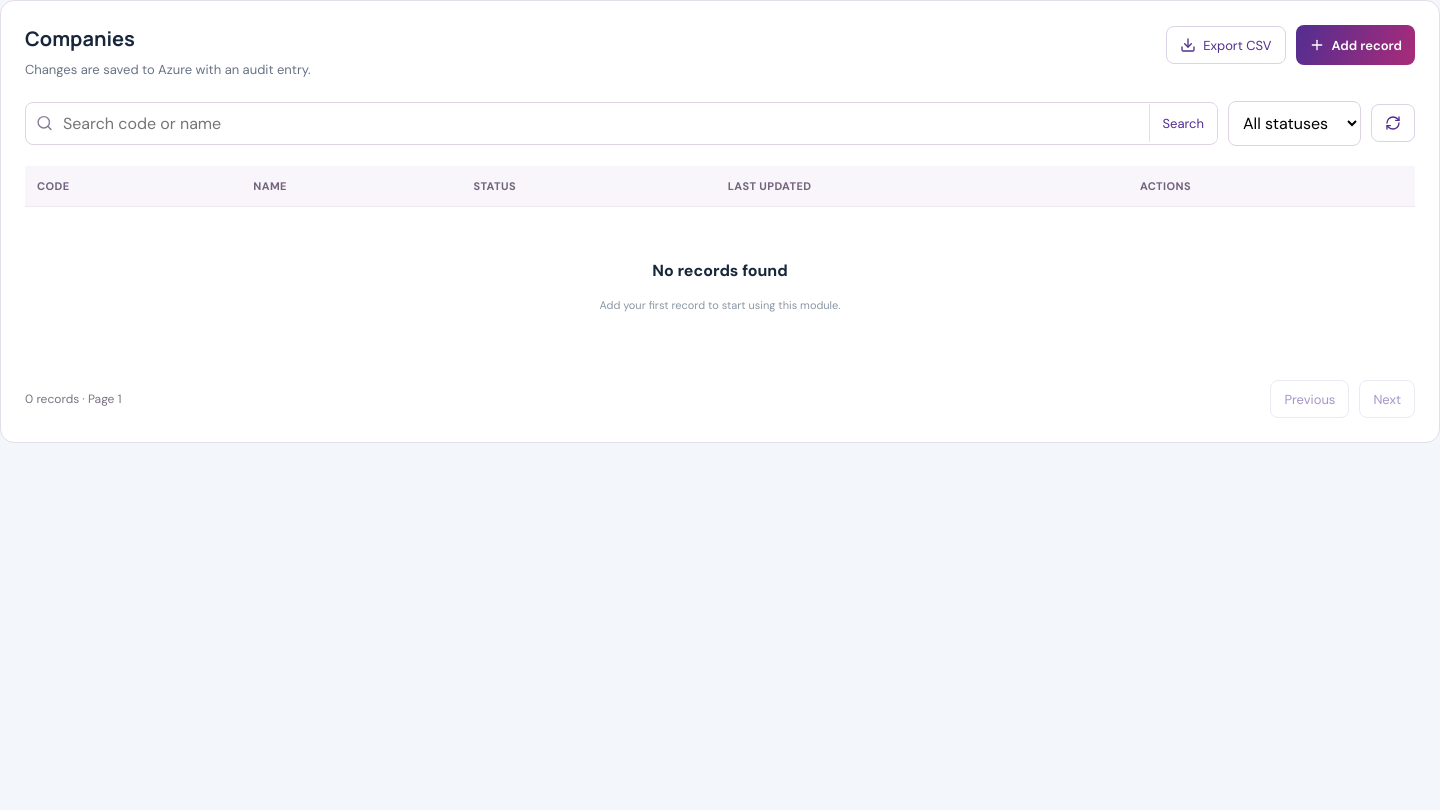
Test: database-backed record forms › sends the grant and saved values, then reloads the database list
This screenshot has width=1440, height=810.
Expected: the heading "No records found" is shown, left=652, top=260, right=788, bottom=281
Click the button "Add record" at (1355, 45), box left=1296, top=25, right=1415, bottom=65
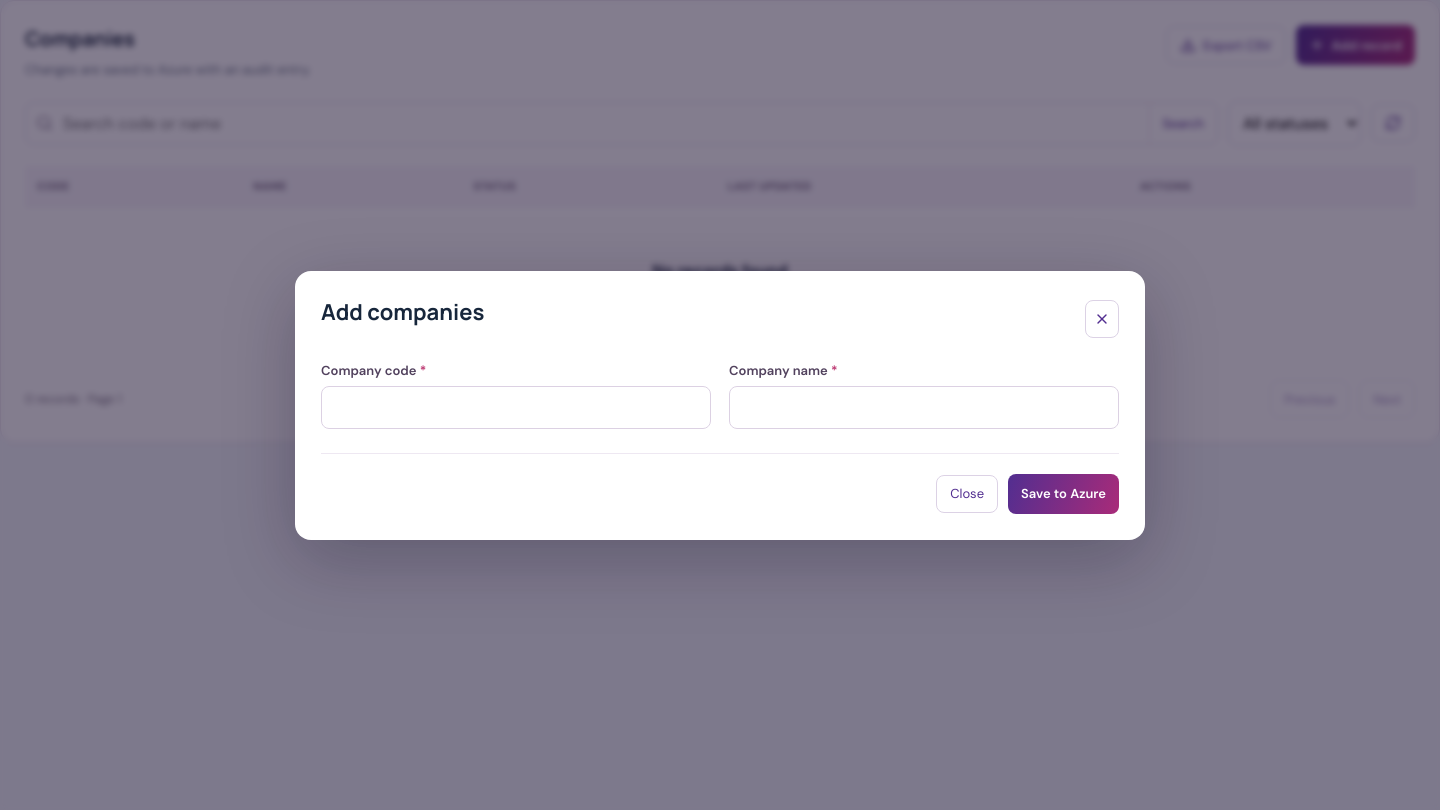
Type "C001" into the field labelled "Company code *" at (516, 407), box left=321, top=386, right=711, bottom=428
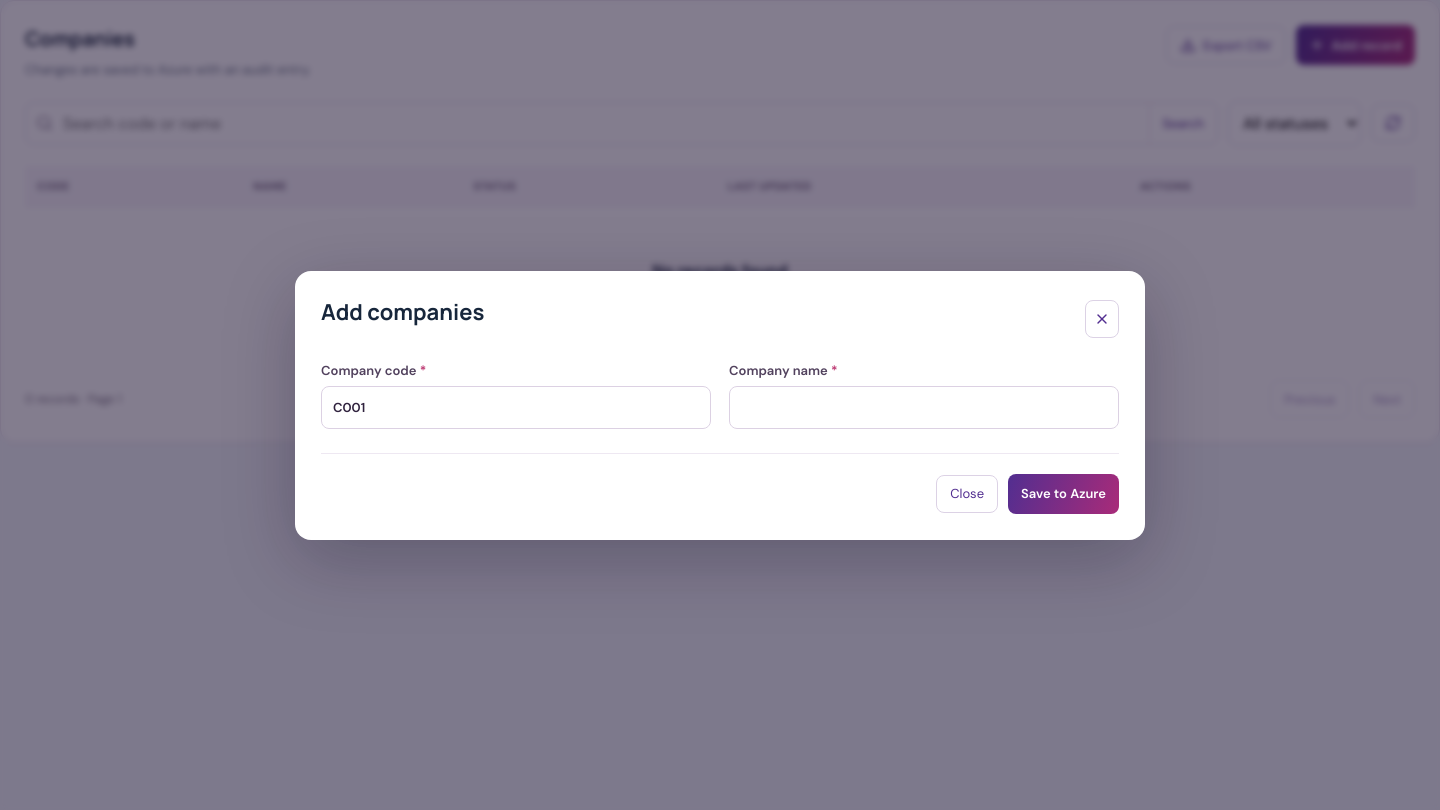
Type "Example company" into the field labelled "Company name *" at (924, 407), box left=729, top=386, right=1119, bottom=428
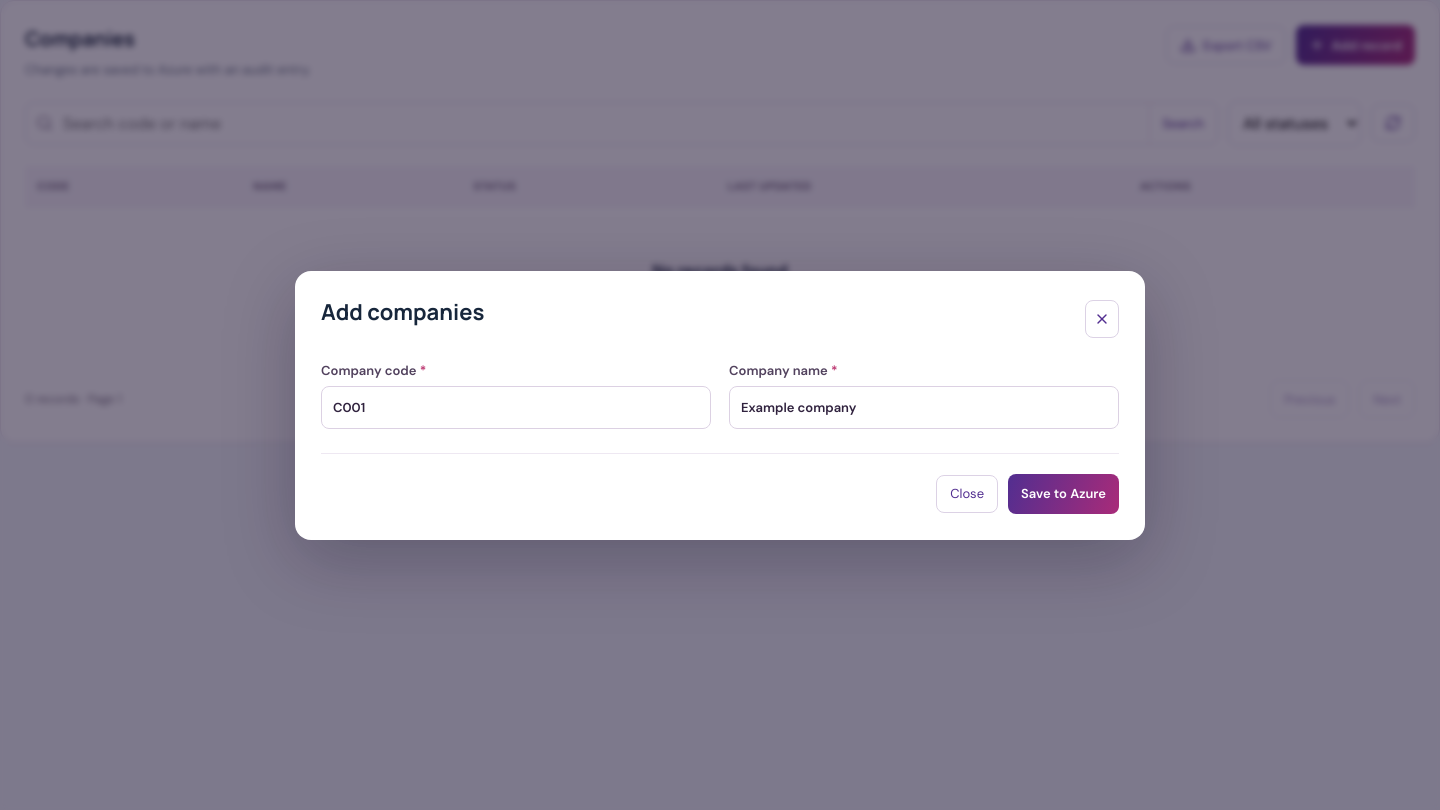
Click the button "Save to Azure" at (1064, 494), box left=1008, top=474, right=1119, bottom=514
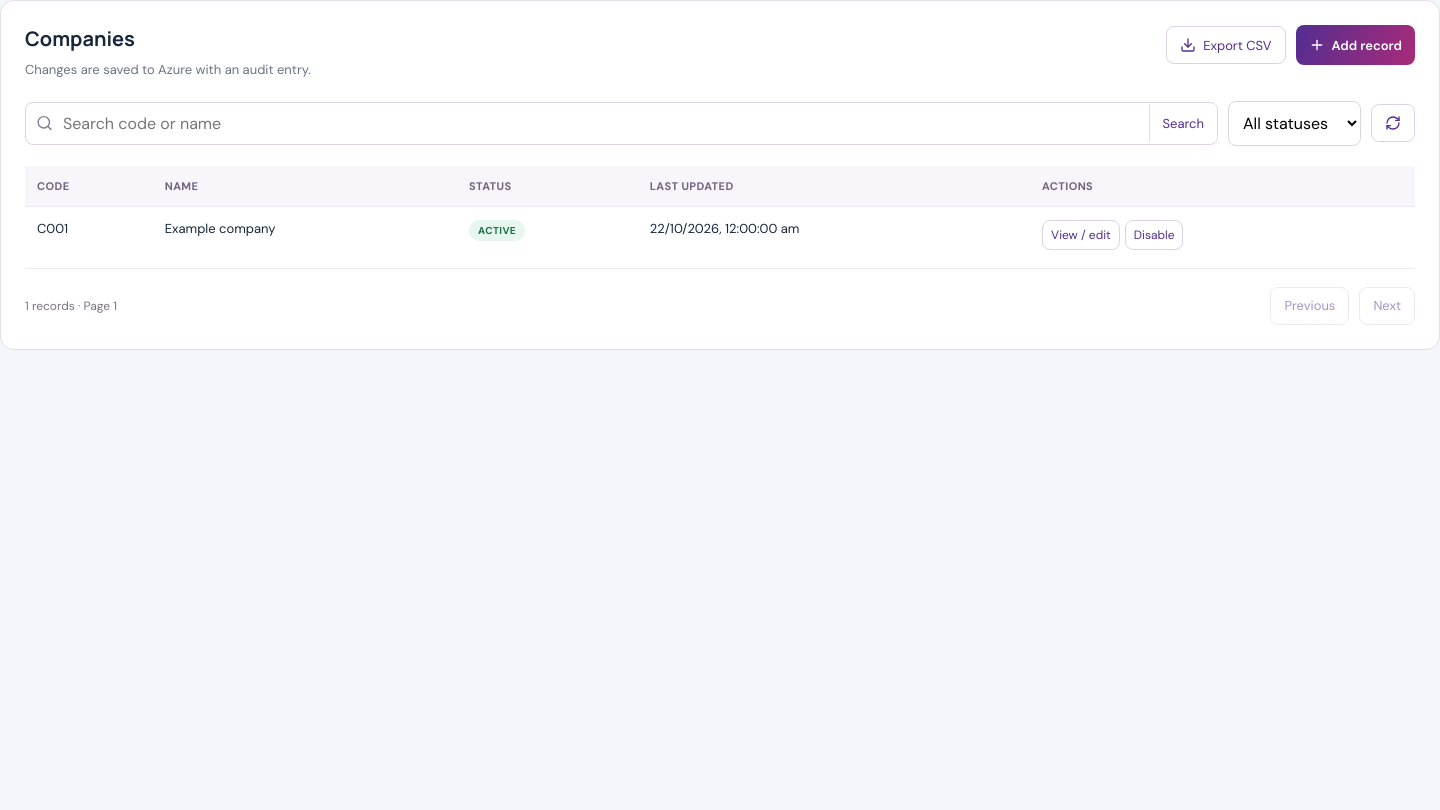
Expected: the text "Example company" is shown, left=153, top=206, right=457, bottom=268
Expected: the dialog is gone
